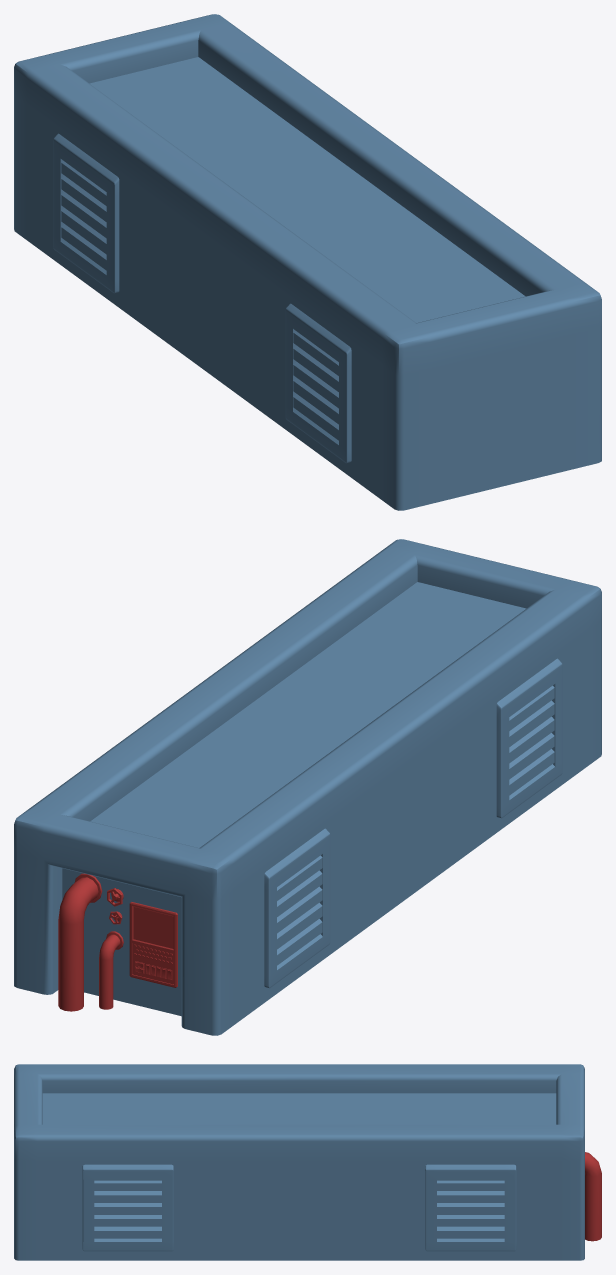
Rendered from SM_ATR_Planter.fbx.
3 views of the same model, one above another, from view 1: azimuth 30°, elevation 25°; view 2: azimuth 150°, elevation 25°; view 3: azimuth 270°, elevation 25° (orthographic). The views are drawn at different scales.
Visible parts, largest first — view 1: SM_ATR_Planter; view 2: SM_ATR_Planter; view 3: SM_ATR_Planter.
Part boxes in pixels (<box>): SM_ATR_Planter: <box>14,14,601,510</box>; SM_ATR_Planter: <box>14,539,601,1035</box>; SM_ATR_Planter: <box>14,1064,601,1260</box>.
Bounding box in the file's own units: 161 × 120 × 515.
